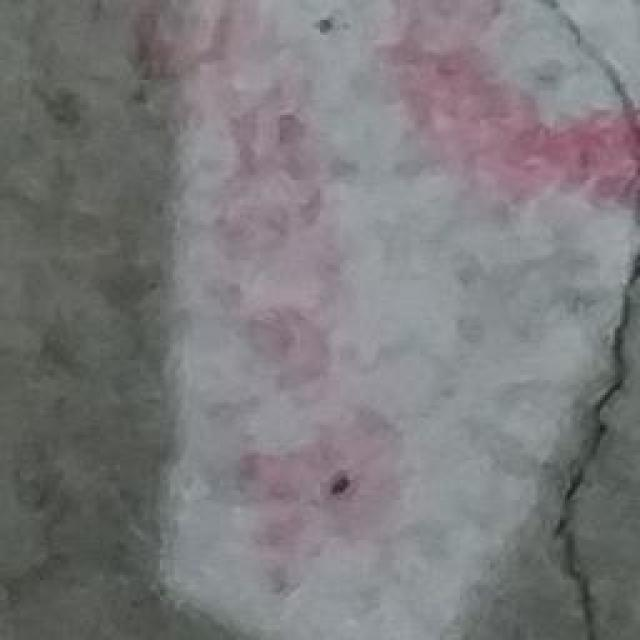Longitudinal: (488, 0, 640, 640)
